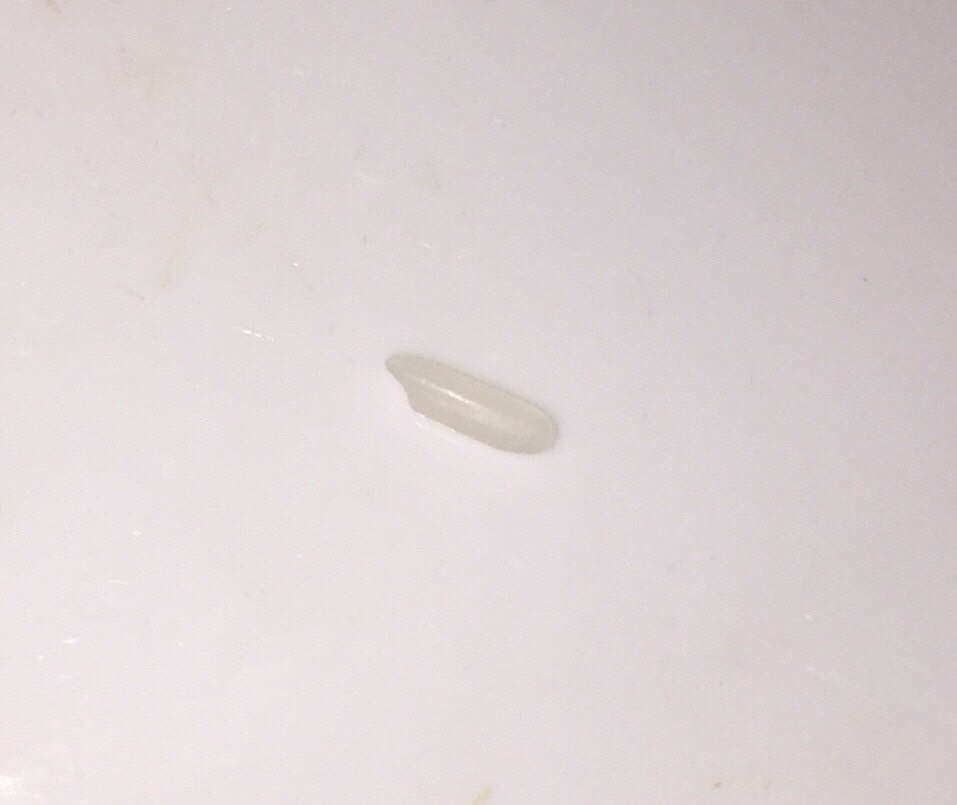Gao Ngoc Troi: (381, 334, 578, 464)
